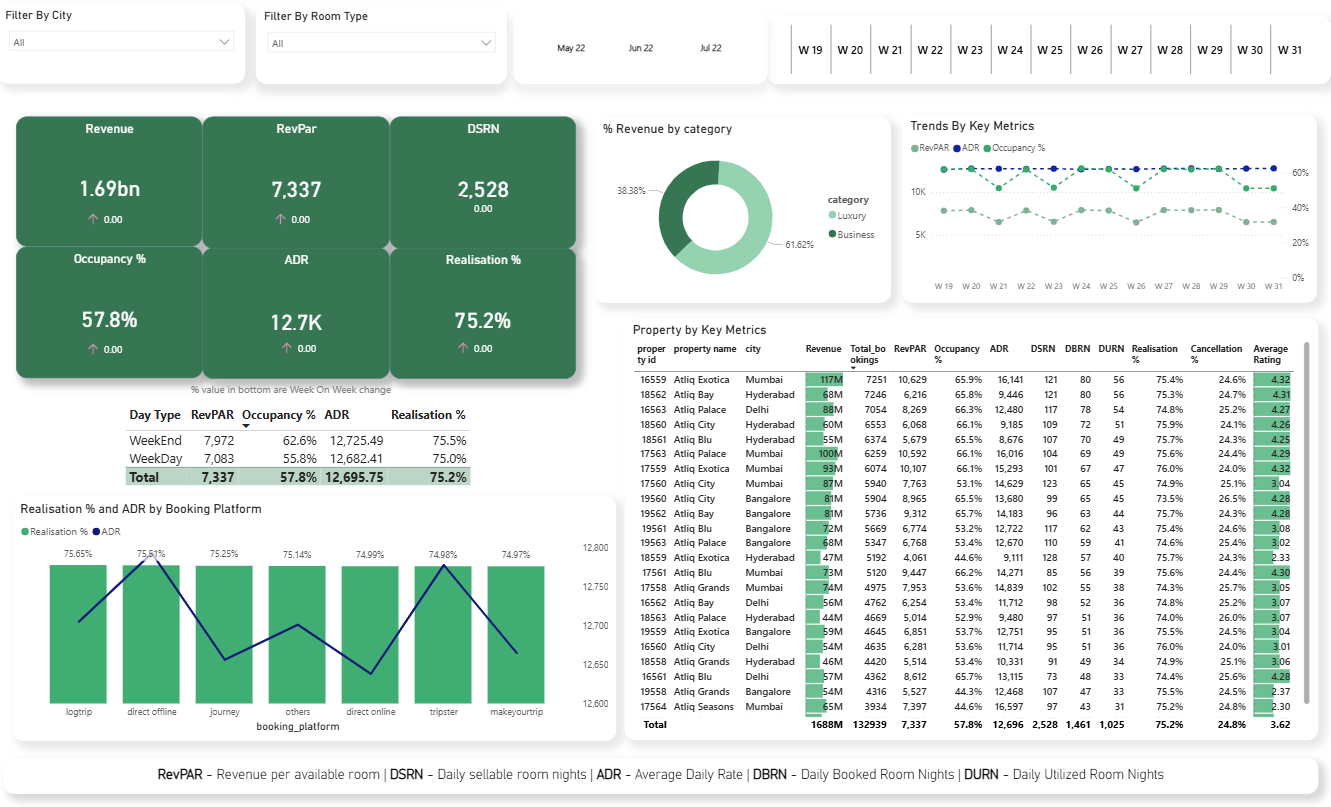

This screenshot's page, from the dashboard's own definition file:
{"tool":"powerbi","page":{"name":"Page 1","canvas":[1800,1100],"ordinal":0},"visuals":[{"type":"donutChart","title":"% Revenue by category","fields":{"Category":["dim_hotels.category"],"Y":["key_measures (2).Revenue"]},"box":[807.3,165.2,399.4,251.1],"z":0},{"type":"slicer","title":"Filter By City","fields":{"Values":["dim_hotels.city"]},"box":[2,14.2,334.8,107.5],"z":1000},{"type":"slicer","title":"Filter By Room Type","fields":{"Values":["dim_rooms.room_class"]},"box":[350.6,15.2,338.8,106.2],"z":2000},{"type":"slicer","title":"Filter By City","fields":{"Values":["dim_date.week no"]},"box":[1039.9,28.7,760.1,92.7],"z":3000},{"type":"card","title":"Revenue","fields":{"Values":["key_measures (2).Revenue"]},"box":[27,165.2,251.1,175.3],"z":5000},{"type":"slicer","fields":{"Values":["dim_date.mmm yy"]},"box":[697.8,21.9,342.1,99.4],"z":6000},{"type":"card","title":"RevPar","fields":{"Values":["key_measures (2).RevPAR"]},"box":[278.1,165.2,252.8,178.7],"z":8000},{"type":"card","title":"DSRN","fields":{"Values":["key_measures (2).DSRN"]},"box":[530.9,165.2,251.1,178.7],"z":9000},{"type":"tableEx","fields":{"Values":["key_measures (2).DSRN WoW change %"]},"box":[610.1,252.8,116.3,109.6],"z":10000},{"type":"card","title":"Occupancy %","fields":{"Values":["key_measures (2).Occupancy %"]},"box":[27,341.1,251.6,177.7],"z":11000},{"type":"card","title":"ADR","fields":{"Values":["key_measures (2).ADR"]},"box":[278.1,342.1,252.8,177],"z":12000},{"type":"lineStackedColumnComboChart","title":"Realisation % and ADR by Booking Platform","fields":{"Category":["fact_bookings.booking_platform"],"Y":["key_measures (2).Realisation %"],"Y2":["key_measures (2).ADR"]},"box":[21.8,677,814.8,329.3],"z":13000},{"type":"card","title":"Realisation %","fields":{"Values":["key_measures (2).Realisation %"]},"box":[530.9,342.1,251.1,177],"z":14000},{"type":"tableEx","fields":{"Values":["dim_date.day_type","key_measures (2).RevPAR","key_measures (2).Occupancy %","key_measures (2).ADR","key_measures (2).Realisation %"]},"box":[168,549.3,488.9,127.7],"z":15000},{"type":"textbox","box":[257,519.1,295.7,28.6],"z":16000},{"type":"tableEx","title":"Property by Key Metrics","fields":{"Values":["dim_hotels.property_id","dim_hotels.property_name","dim_hotels.city","key_measures (2).Revenue","key_measures (2).Total_bookings","key_measures (2).RevPAR","key_measures (2).Occupancy %","key_measures (2).ADR","key_measures (2).DSRN","key_measures (2).DBRN","key_measures (2).DURN","key_measures (2).Realisation %"]},"box":[847.8,436.5,935.4,569.7],"z":17000},{"type":"lineChart","title":"Trends By Key Metrics","fields":{"Category":["dim_date.mmm yy.Variation.Date Hierarchy.Month","dim_date.week no"],"Y":["key_measures (2).RevPAR","key_measures (2).ADR"],"Y2":["key_measures (2).Occupancy %"]},"box":[1221.9,161.8,559.6,254.5],"z":18000},{"type":"textbox","box":[10.1,1029.8,1773,48.9],"z":19000},{"type":"tableEx","fields":{"Values":["key_measures (2).ADR WoW change %"]},"box":[372.5,441.6,114.6,69.1],"z":20000},{"type":"tableEx","fields":{"Values":["key_measures (2).Realisation WoW change %"]},"box":[610.1,441.6,114.6,107.9],"z":21000},{"type":"tableEx","fields":{"Values":["key_measures (2).Occupancy WoW change %"]},"box":[111.2,443.3,114.6,65.7],"z":22000},{"type":"tableEx","fields":{"Values":["key_measures (2).Revpar WoW change %"]},"box":[364,268,114.6,109.6],"z":22500},{"type":"tableEx","fields":{"Values":["key_measures (2).Revenue WoW change %"]},"box":[111.2,268,116.3,109.6],"z":23000}]}

Visuals, with their boxes in screenshot pixels (x1, y1, x2, y2), scaled from the page's 1800x1100 canvas onto the 1331x807 screenshot:
"% Revenue by category" donutChart: x1=597, y1=121, x2=892, y2=305
"Filter By City" slicer: x1=1, y1=10, x2=249, y2=89
"Filter By Room Type" slicer: x1=259, y1=11, x2=510, y2=89
"Filter By City" slicer: x1=769, y1=21, x2=1330, y2=89
"Revenue" card: x1=20, y1=121, x2=206, y2=250
slicer - dim_date.mmm yy: x1=516, y1=16, x2=769, y2=89
"RevPar" card: x1=206, y1=121, x2=393, y2=252
"DSRN" card: x1=393, y1=121, x2=578, y2=252
tableEx - key_measures (2).DSRN WoW change %: x1=451, y1=185, x2=537, y2=266
"Occupancy %" card: x1=20, y1=250, x2=206, y2=381
"ADR" card: x1=206, y1=251, x2=393, y2=381
"Realisation % and ADR by Booking Platform" lineStackedColumnComboChart: x1=16, y1=497, x2=619, y2=738
"Realisation %" card: x1=393, y1=251, x2=578, y2=381
tableEx - dim_date.day_type x key_measures (2).RevPAR: x1=124, y1=403, x2=486, y2=497
textbox: x1=190, y1=381, x2=409, y2=402
"Property by Key Metrics" tableEx: x1=627, y1=320, x2=1319, y2=738
"Trends By Key Metrics" lineChart: x1=904, y1=119, x2=1317, y2=305
textbox: x1=7, y1=755, x2=1319, y2=791
tableEx - key_measures (2).ADR WoW change %: x1=275, y1=324, x2=360, y2=375
tableEx - key_measures (2).Realisation WoW change %: x1=451, y1=324, x2=536, y2=403
tableEx - key_measures (2).Occupancy WoW change %: x1=82, y1=325, x2=167, y2=373
tableEx - key_measures (2).Revpar WoW change %: x1=269, y1=197, x2=354, y2=277
tableEx - key_measures (2).Revenue WoW change %: x1=82, y1=197, x2=168, y2=277
